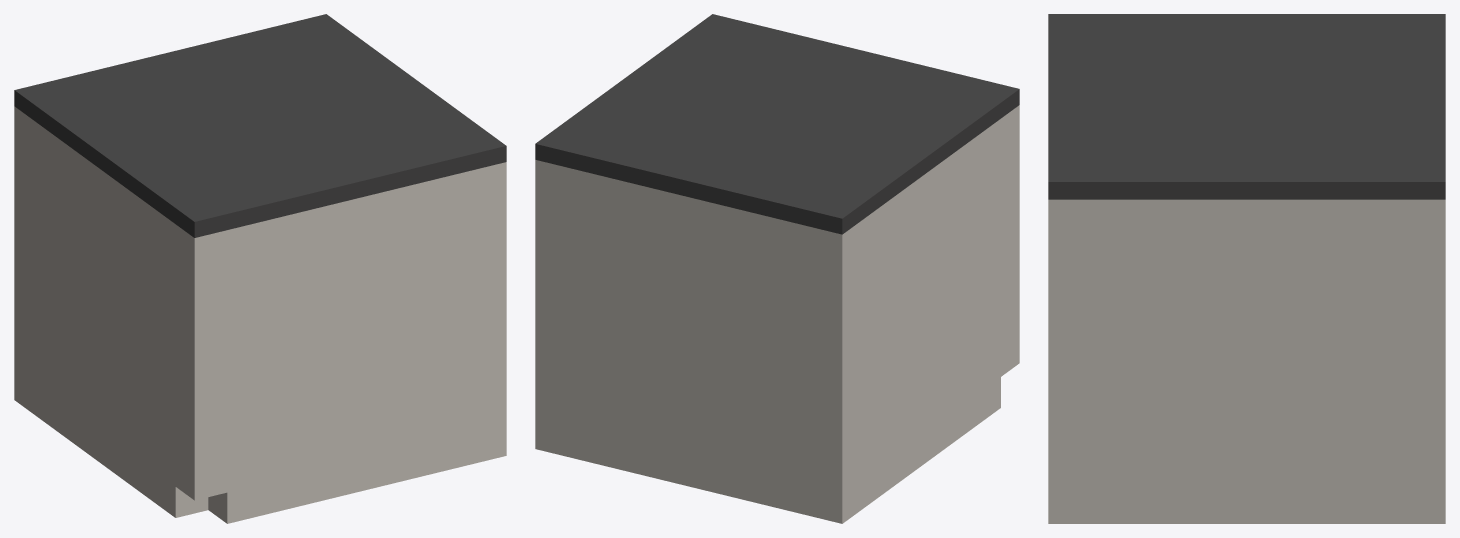
The model's file is SM_Prop_Kitchen_CounterCorner_01.fbx.
The picture shows the model from 3 angles, left to right: view 1: azimuth 30°, elevation 25°; view 2: azimuth 150°, elevation 25°; view 3: azimuth 270°, elevation 25°; orthographic projection. The views are drawn at different scales.
Visible parts, largest first — view 1: SM_Prop_Kitchen_CounterCorner_01; view 2: SM_Prop_Kitchen_CounterCorner_01; view 3: SM_Prop_Kitchen_CounterCorner_01.
Boxes of the visible parts, left/top/right/bottom form: SM_Prop_Kitchen_CounterCorner_01: left=14, top=14, right=506, bottom=523; SM_Prop_Kitchen_CounterCorner_01: left=535, top=14, right=1019, bottom=523; SM_Prop_Kitchen_CounterCorner_01: left=1048, top=14, right=1445, bottom=523.
Bounding box in the file's own units: 100 × 94.96 × 100.
